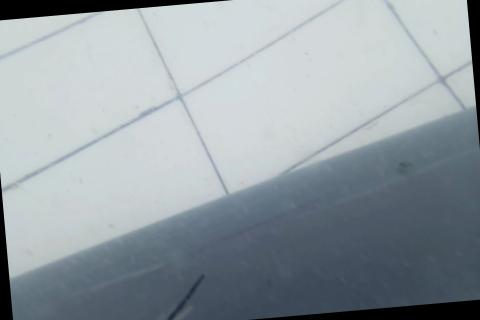keretakan: (153, 271, 211, 320)
